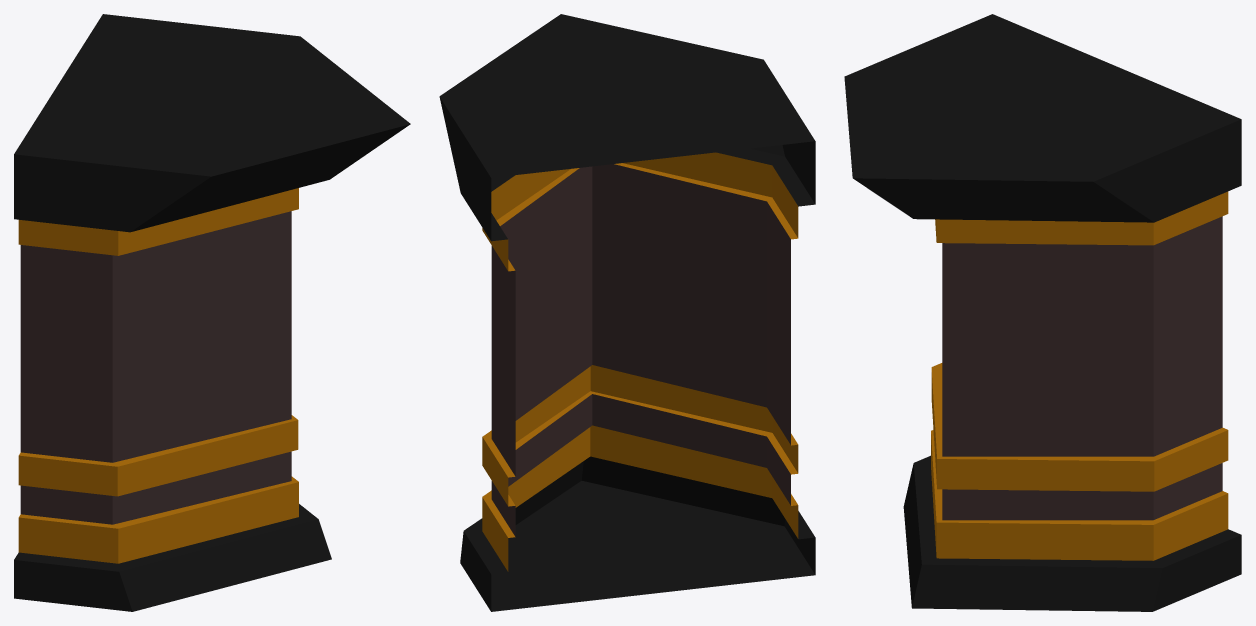
File: Pillar F0.fbx
3 renders of one model, left to right at view 1: azimuth 30°, elevation 25°; view 2: azimuth 150°, elevation 25°; view 3: azimuth 270°, elevation 25°, orthographic. The views are drawn at different scales.
Visible parts, largest first — view 1: Pillar F0; view 2: Pillar F0; view 3: Pillar F0.
Boxes of the visible parts, x1,y1,x2,y2 form: Pillar F0: (14,14,410,611); Pillar F0: (439,14,815,611); Pillar F0: (844,14,1241,611).
Bounding box in the file's own units: 376 × 475 × 376.
